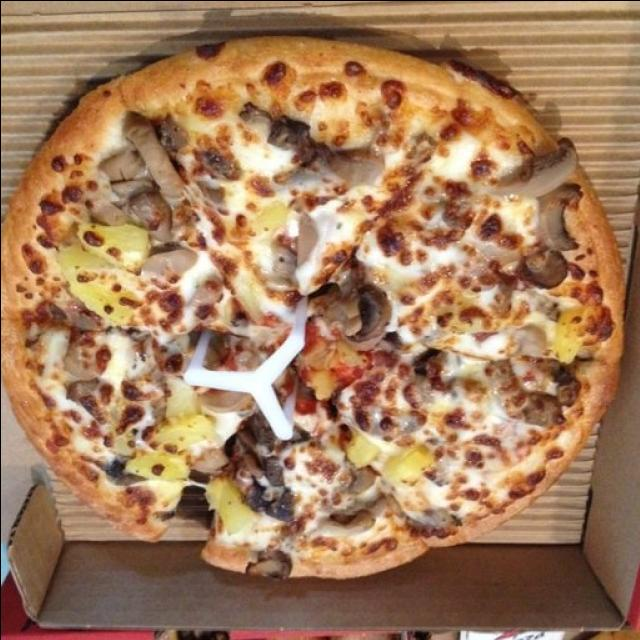pizza: (0, 34, 624, 578)
